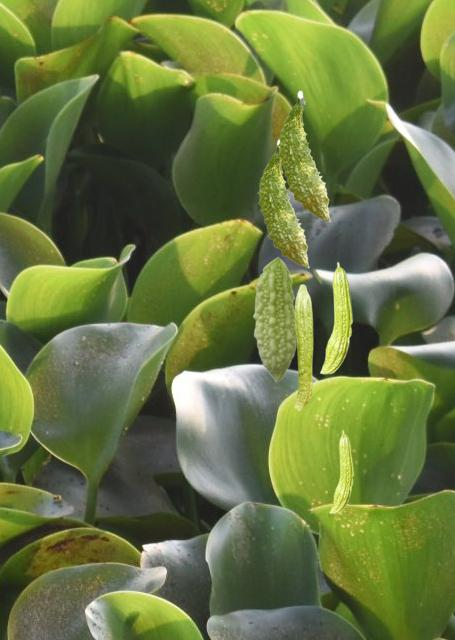ampalaya: (277, 90, 331, 222), (256, 139, 309, 268), (252, 256, 295, 382), (319, 261, 353, 374), (293, 284, 313, 411), (329, 429, 354, 514)
